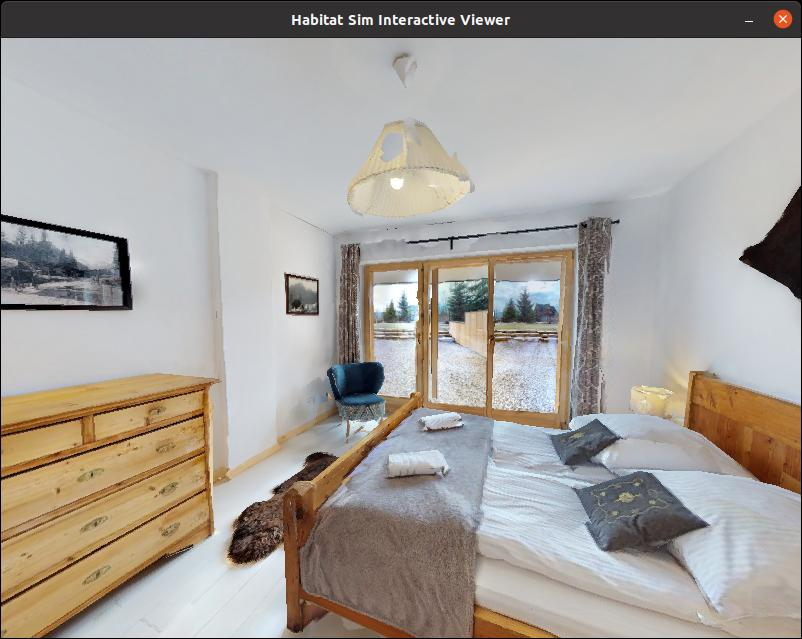bed: (297, 357, 802, 639)
sofa: (315, 341, 400, 447)
